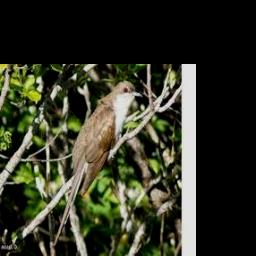Cuckoo: (54, 80, 143, 246)
